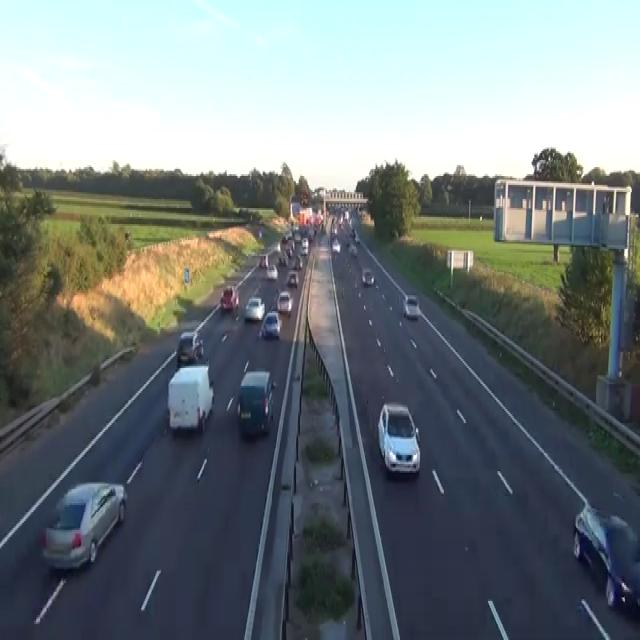Car: (40, 480, 127, 571), (573, 503, 639, 613), (377, 402, 420, 474), (236, 370, 275, 437), (575, 598, 639, 638), (176, 330, 203, 364), (259, 309, 281, 338), (220, 284, 239, 310), (244, 297, 265, 320), (276, 290, 292, 316), (403, 294, 419, 318), (361, 267, 374, 286), (90, 361, 100, 384), (286, 270, 298, 286), (266, 263, 278, 279), (331, 236, 341, 252), (300, 237, 308, 254), (294, 252, 302, 268), (259, 252, 268, 266), (285, 244, 294, 258), (307, 226, 315, 240), (278, 254, 286, 265), (350, 244, 357, 256), (124, 229, 131, 240), (293, 231, 300, 242), (281, 234, 288, 243), (349, 228, 355, 236), (355, 233, 360, 242), (332, 228, 337, 236), (258, 230, 262, 238)
Truck: (166, 362, 214, 433)
